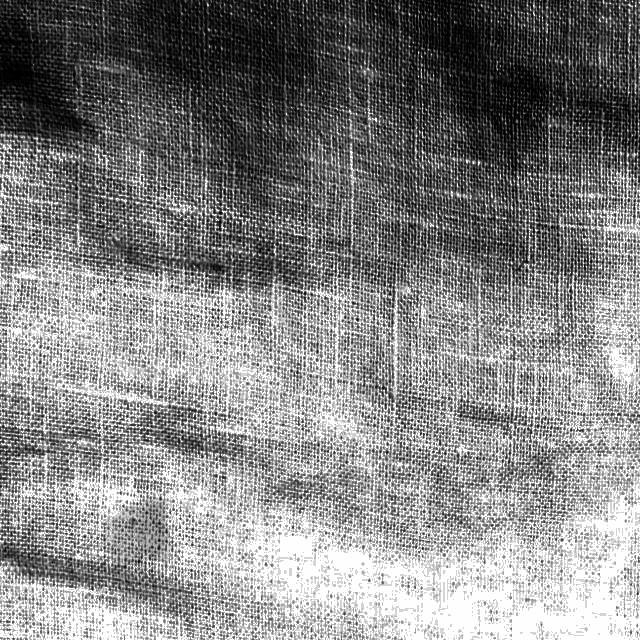Color_defect: (473, 52, 547, 172), (127, 482, 185, 564)
